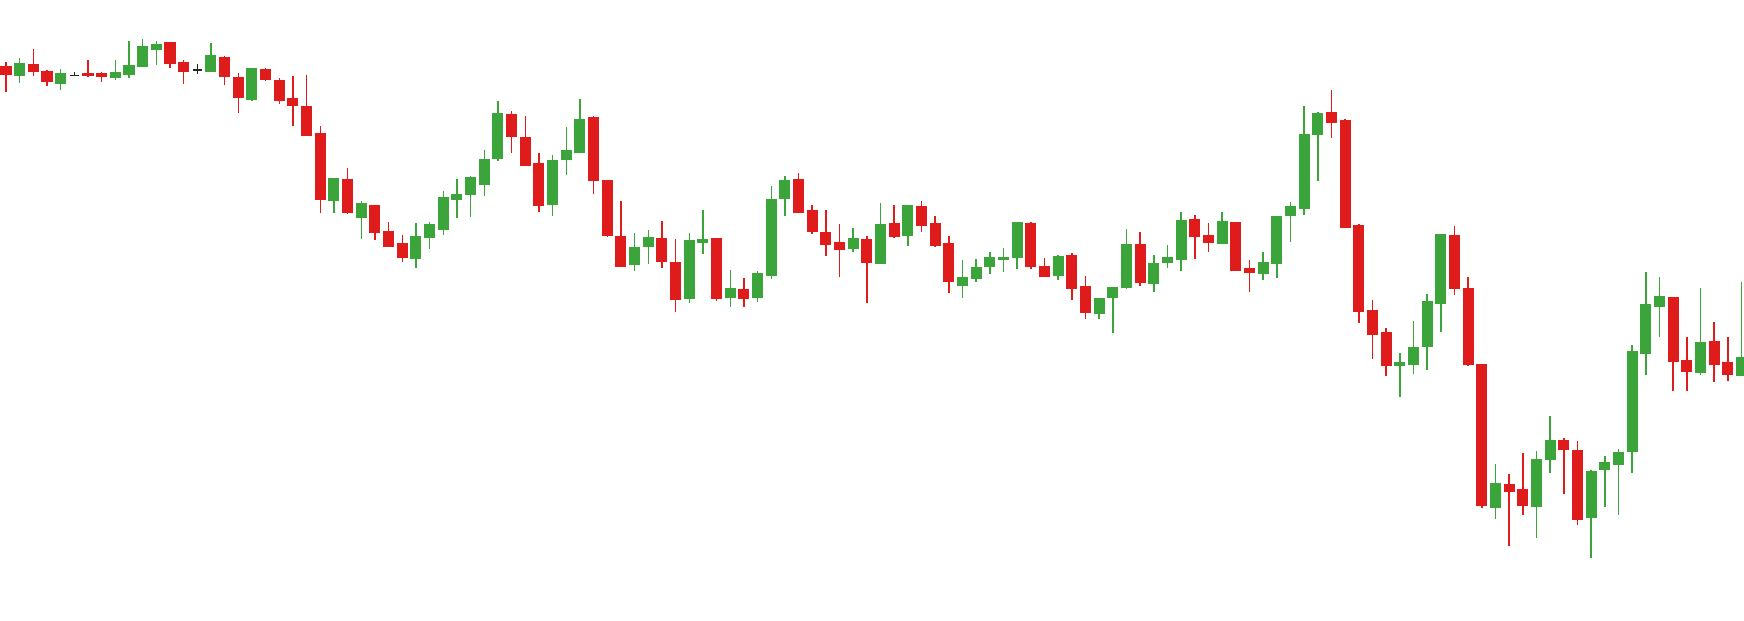buy: (957, 239, 1118, 336), (1502, 446, 1598, 570)
sell: (696, 169, 820, 266), (490, 100, 601, 177)
